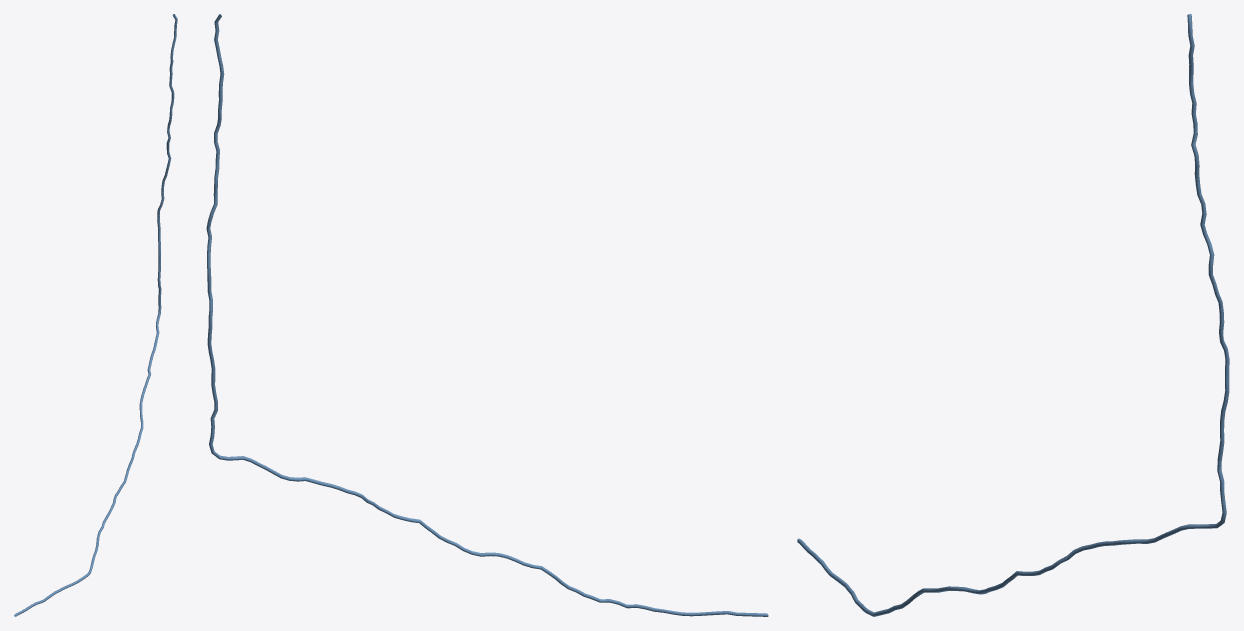
Rendered from sweep155.fbx.
3 renders of one model, left to right at view 1: azimuth 30°, elevation 25°; view 2: azimuth 150°, elevation 25°; view 3: azimuth 270°, elevation 25°, orthographic. The views are drawn at different scales.
Visible parts, largest first — view 1: sweep155; view 2: sweep155; view 3: sweep155.
Boxes of the visible parts, x1,y1,x2,y2 form: sweep155: (14, 14, 177, 616); sweep155: (206, 14, 768, 616); sweep155: (797, 14, 1229, 616).
Size of the model in its own units: 2.39 by 3.68 by 1.9.
